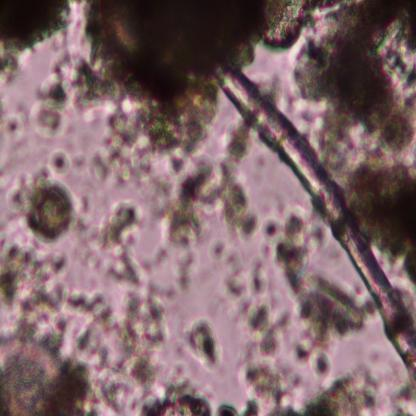Background material: (298, 0, 416, 159), (73, 245, 169, 414), (79, 0, 260, 85), (152, 123, 264, 249), (263, 207, 363, 341), (89, 82, 217, 178), (210, 230, 290, 359), (344, 160, 416, 280), (246, 352, 379, 414), (0, 240, 68, 348), (30, 52, 110, 142), (0, 1, 74, 91), (10, 167, 77, 241), (136, 383, 261, 414), (261, 1, 313, 48), (75, 193, 104, 273), (185, 314, 223, 374), (102, 197, 144, 251), (169, 250, 198, 295), (383, 381, 416, 414), (0, 98, 25, 141), (49, 146, 75, 174), (262, 72, 283, 104), (314, 348, 332, 378), (292, 342, 311, 365), (74, 153, 89, 175)
Diatom: (0, 327, 73, 415)
Microfibre: (210, 57, 416, 373)
